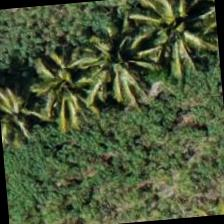Kelapa_Sawit: (30, 54, 128, 152), (66, 10, 164, 108), (128, 0, 221, 81), (0, 78, 66, 174)
